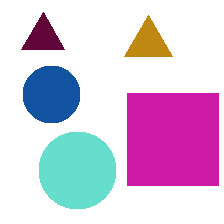circle: (39, 132, 115, 208), (23, 66, 79, 122)
rectangle: (127, 93, 218, 185)
triangle: (124, 15, 172, 56), (21, 12, 64, 49)
